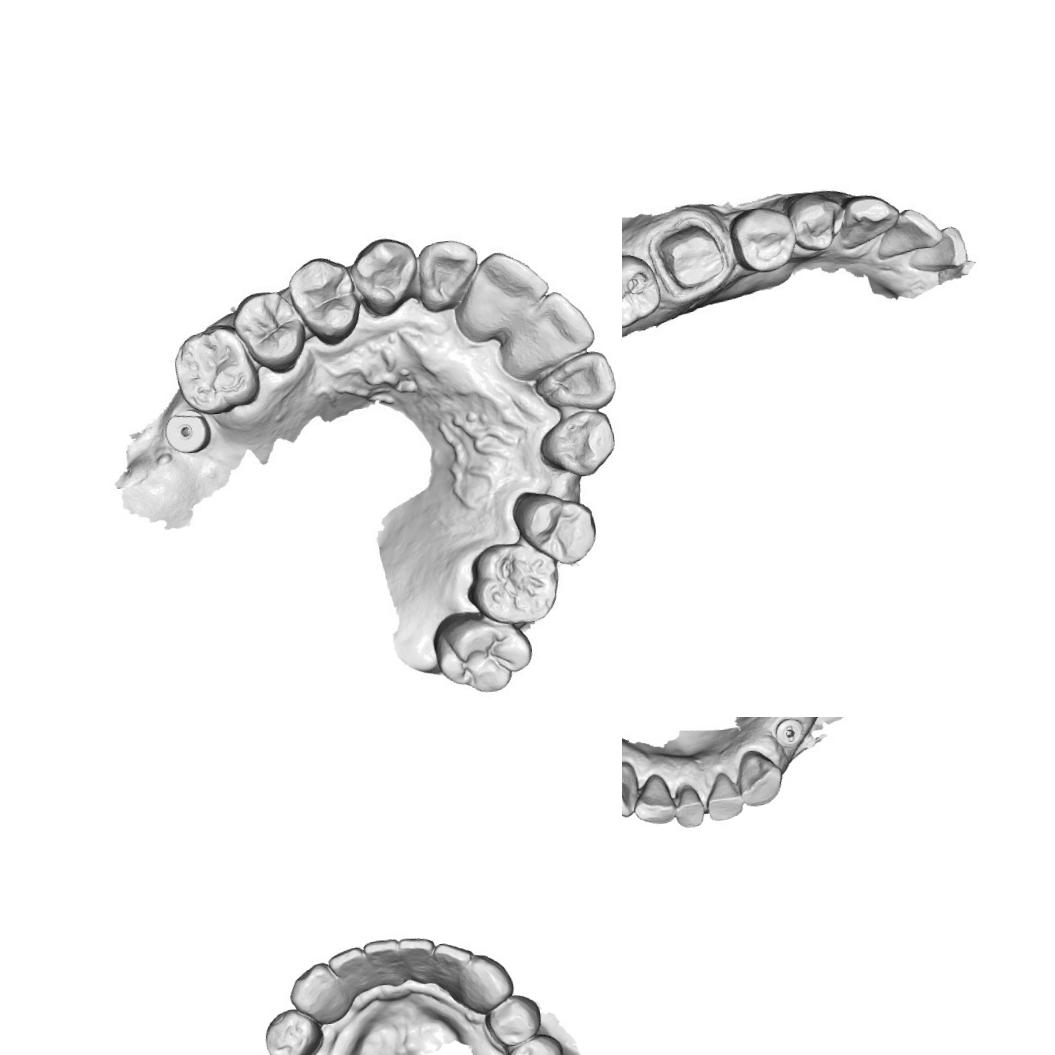canine: (348, 231, 423, 322), (534, 406, 622, 481), (836, 186, 902, 256), (287, 960, 352, 1029), (456, 950, 515, 1013), (622, 756, 640, 821)
crown: (645, 212, 733, 300)
implant: (162, 411, 216, 454)
implant_minus: (772, 717, 806, 750)
incisor: (498, 283, 598, 379), (455, 248, 552, 344), (411, 234, 482, 314), (543, 346, 620, 414), (871, 203, 946, 263), (734, 746, 785, 810), (630, 768, 681, 828), (702, 769, 748, 823), (362, 937, 405, 990), (327, 944, 370, 996), (397, 934, 438, 986), (432, 938, 476, 981), (671, 782, 706, 830)
molar: (429, 603, 542, 702), (169, 322, 264, 419), (464, 537, 564, 629), (622, 249, 666, 333)
premolar: (508, 479, 602, 571), (284, 249, 363, 349), (230, 285, 308, 377), (727, 201, 800, 277), (786, 190, 848, 254), (482, 992, 544, 1050), (261, 1004, 326, 1055), (506, 1034, 568, 1055)
